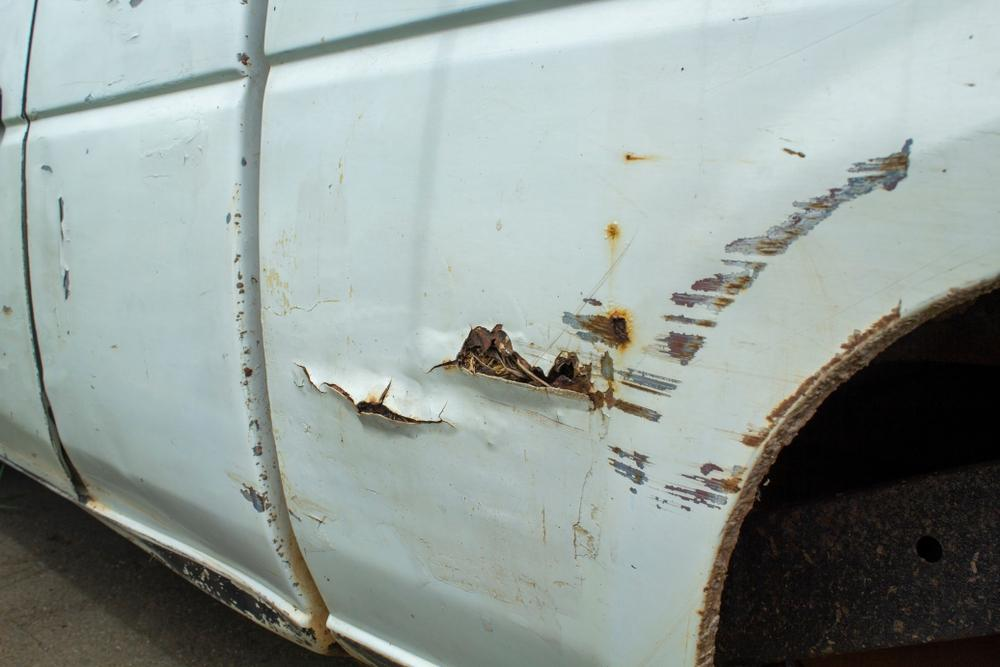crack: (424, 327, 596, 393), (294, 362, 457, 427)
scratch: (598, 134, 920, 511)
